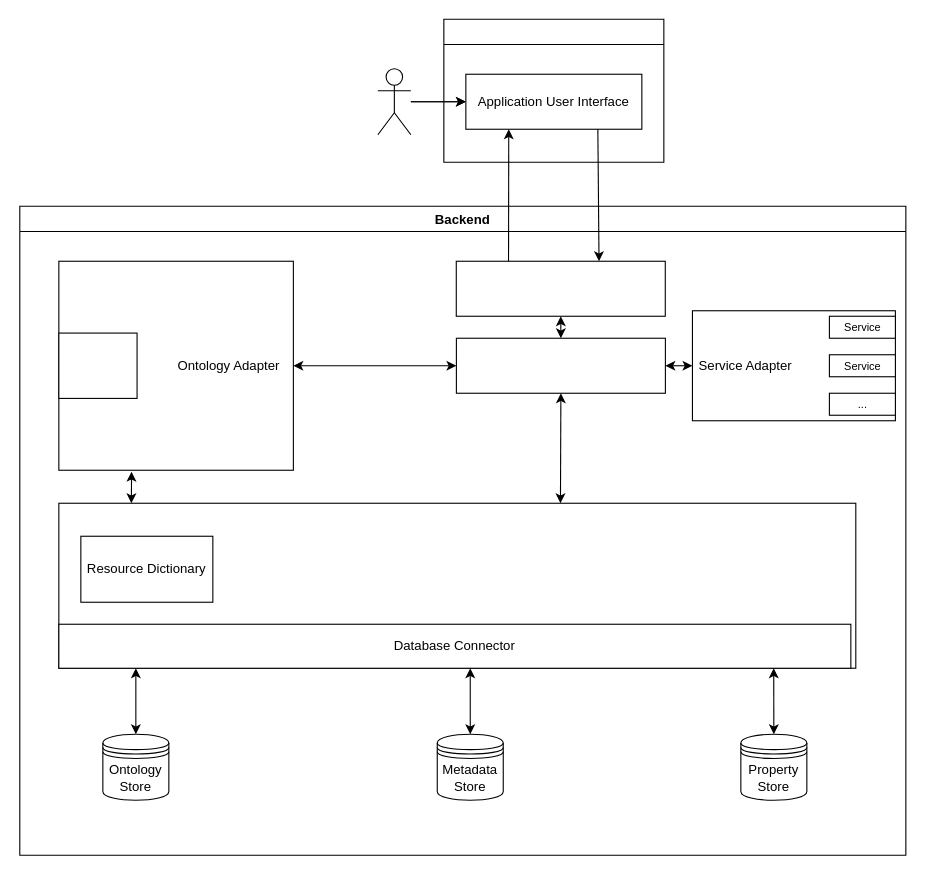
This 925x875 diagram has some shape labels left out. Each missing label, with the box of its shape:
API: (455, 260, 665, 316)
Brick: (58, 332, 137, 398)
Database Management System: (58, 502, 856, 668)
Flask App: (455, 337, 665, 393)
Frontend: (443, 18, 664, 162)
User: (377, 68, 411, 135)
